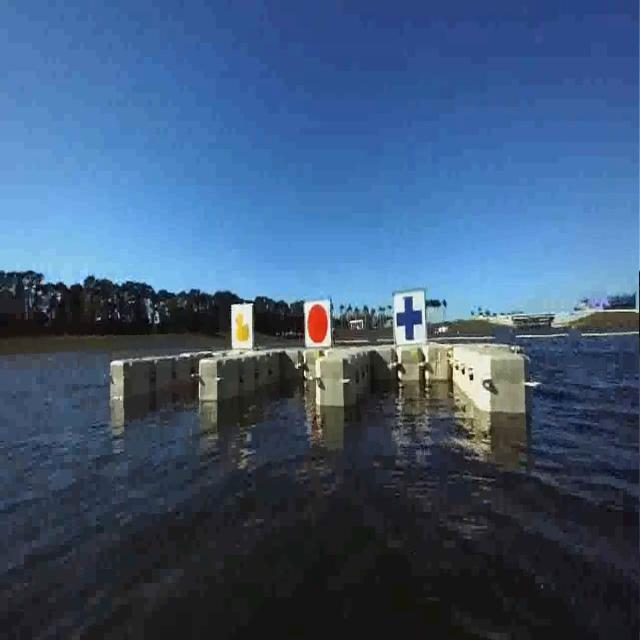blue-cross: (392, 291, 427, 348)
red-dot: (304, 299, 330, 346)
yellow-duck: (230, 304, 252, 358)
